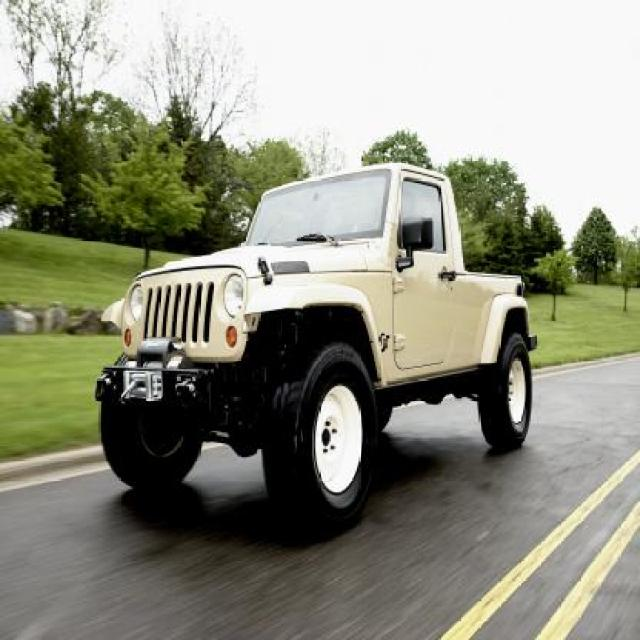Jeep: (88, 158, 538, 526)
